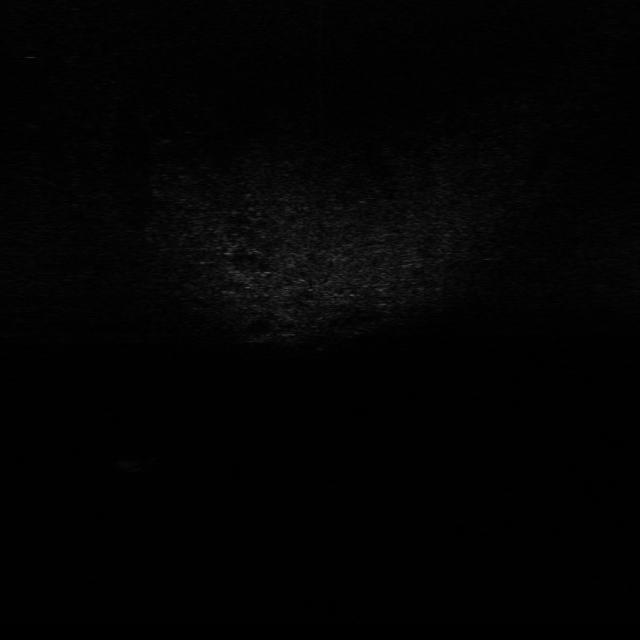cube: (114, 445, 162, 474)
